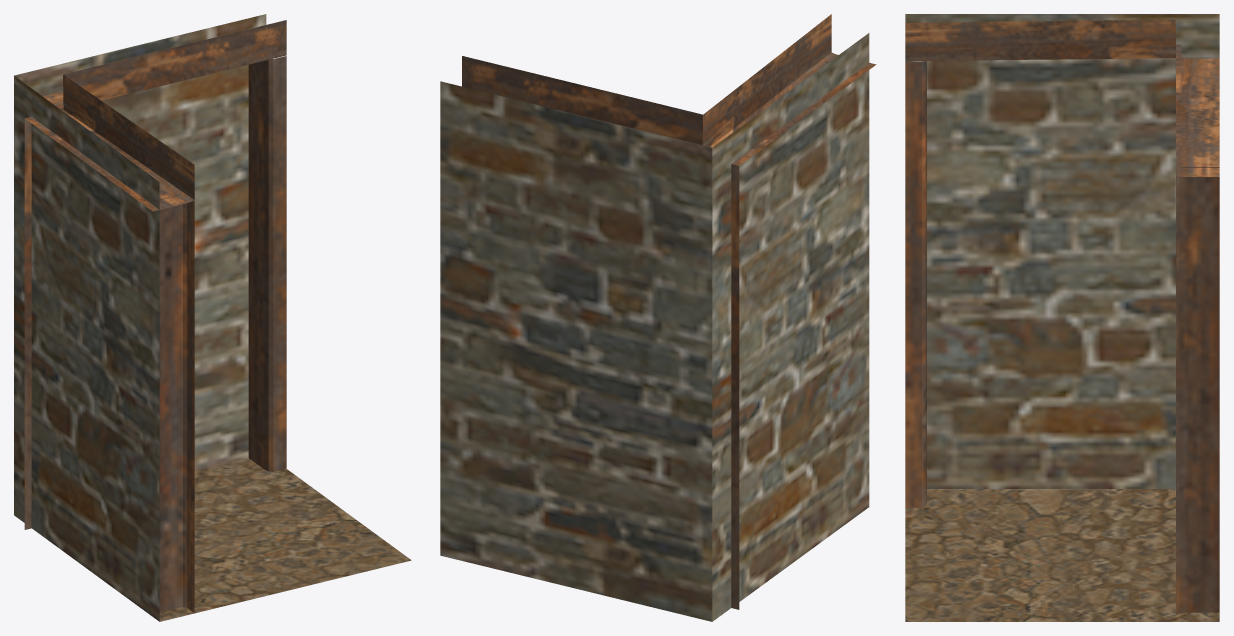
Rendered from structure-wall-corner 1.fbx.
The picture shows the model from 3 angles, left to right: view 1: azimuth 30°, elevation 25°; view 2: azimuth 150°, elevation 25°; view 3: azimuth 270°, elevation 25°; orthographic projection. The views are drawn at different scales.
Visible parts, largest first — view 1: wall-corner; view 2: wall-corner; view 3: wall-corner.
Boxes of the visible parts, bbox=[...] form: wall-corner: bbox=[14, 14, 411, 621]; wall-corner: bbox=[440, 14, 876, 621]; wall-corner: bbox=[905, 14, 1219, 621].
Size of the model in its own units: 185 by 306 by 180.
